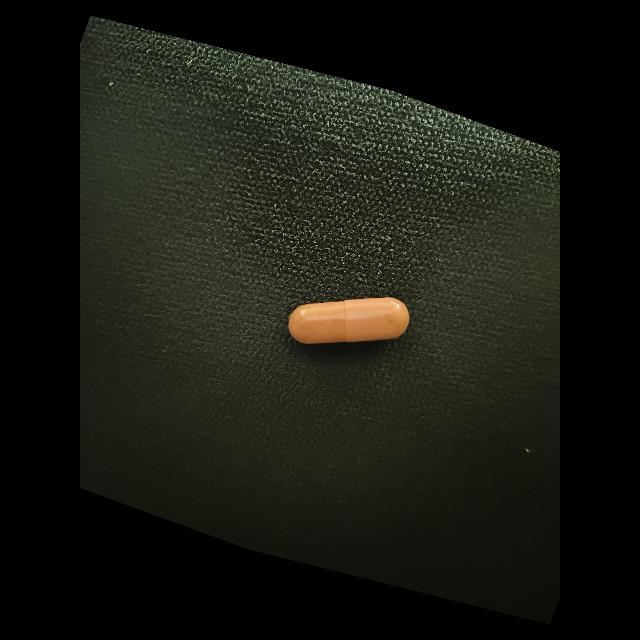Intact Capsule: (288, 297, 409, 344)
